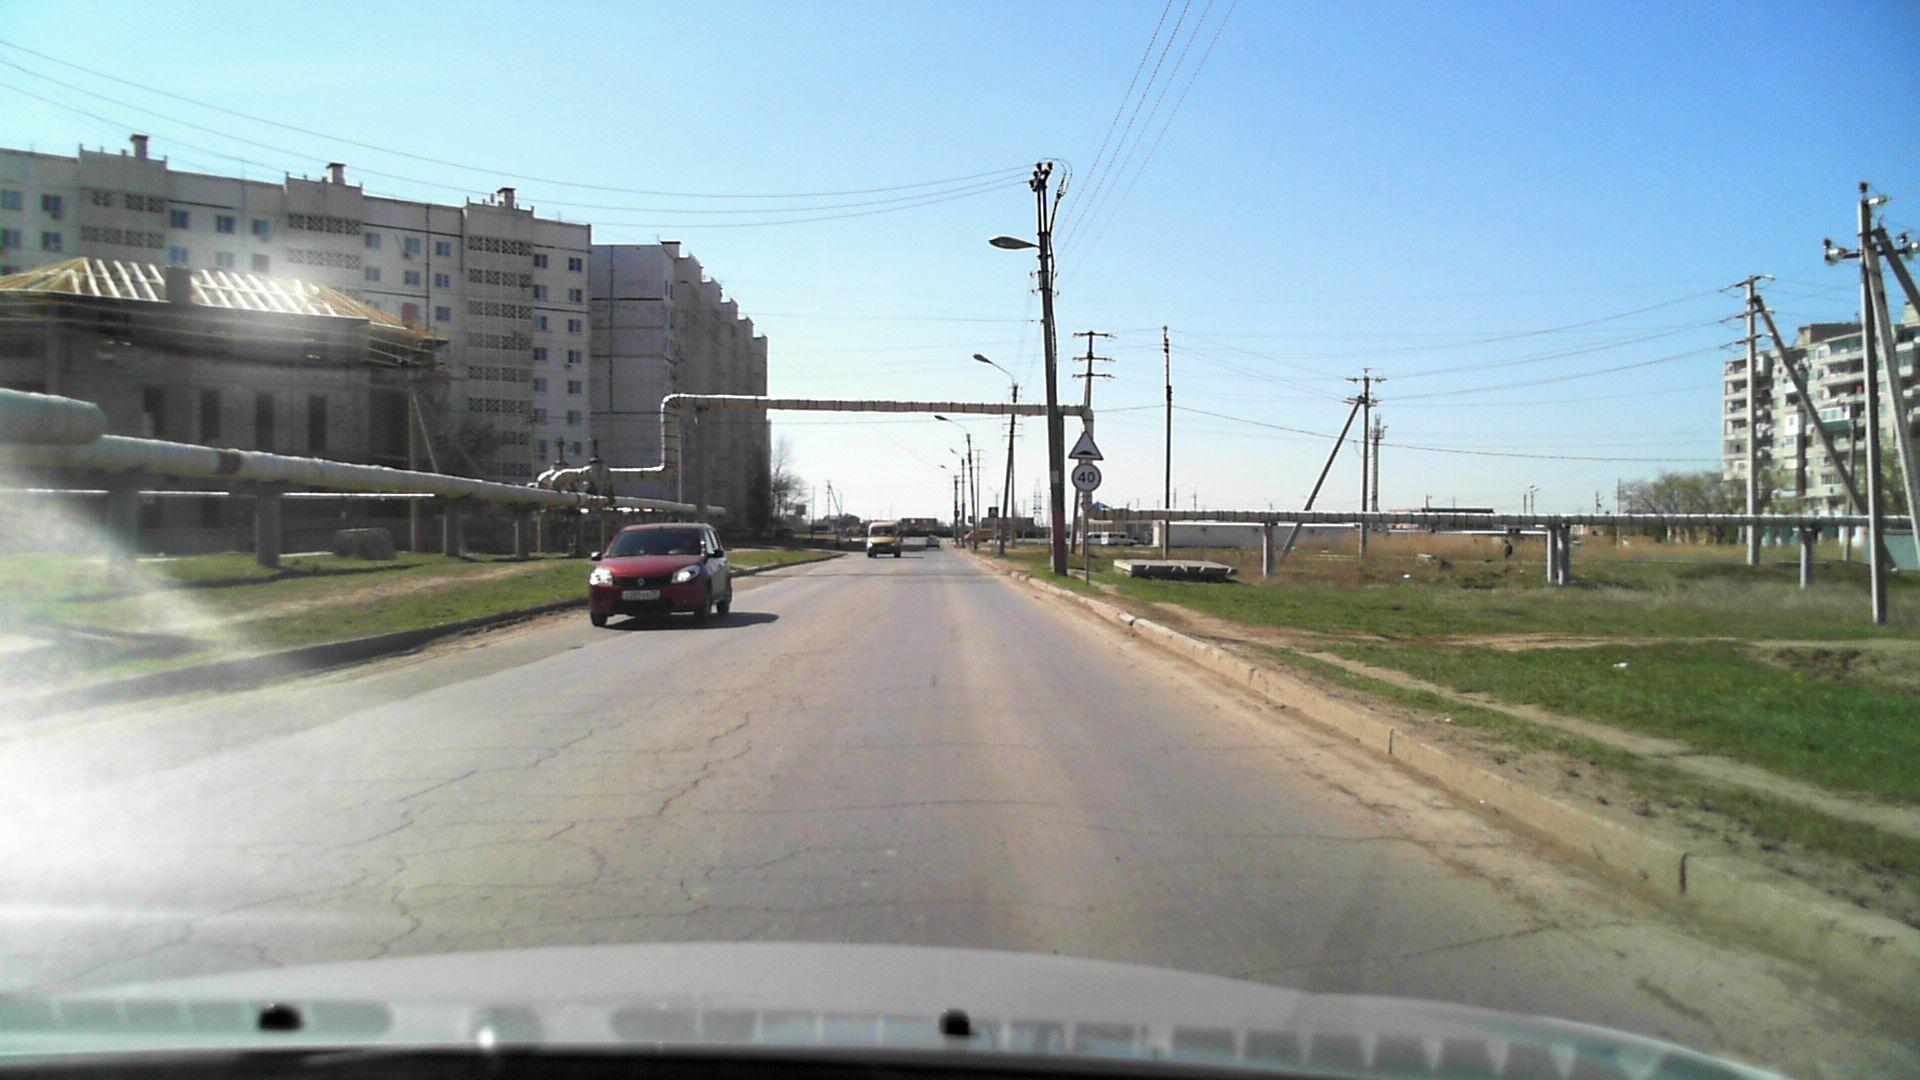1_17: (1067, 429, 1105, 462)
3_24: (1072, 463, 1102, 492)
